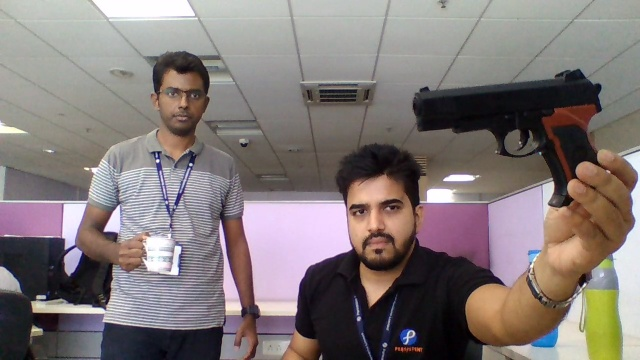gun: (413, 68, 603, 147)
